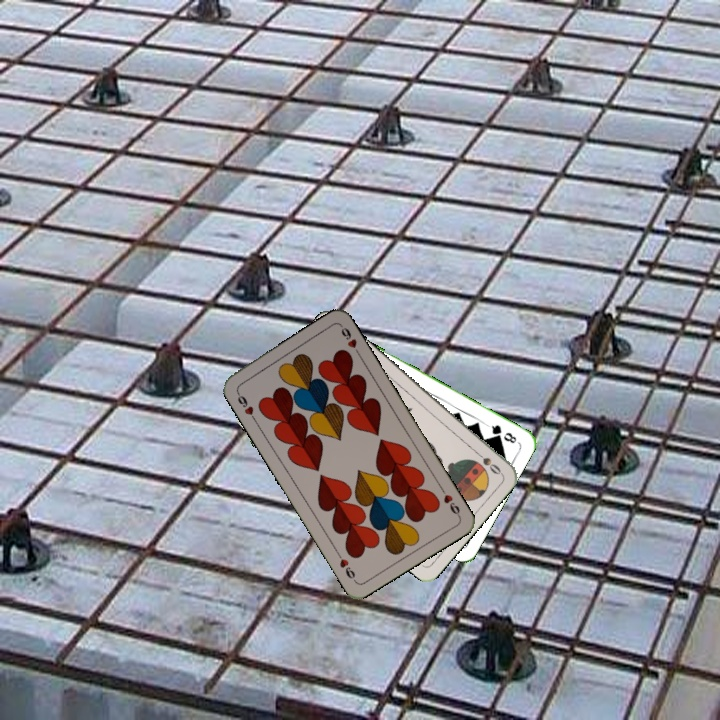G8: (483, 420, 519, 446)
H9: (232, 387, 259, 424), (436, 483, 463, 519)
SO: (470, 446, 504, 477)
